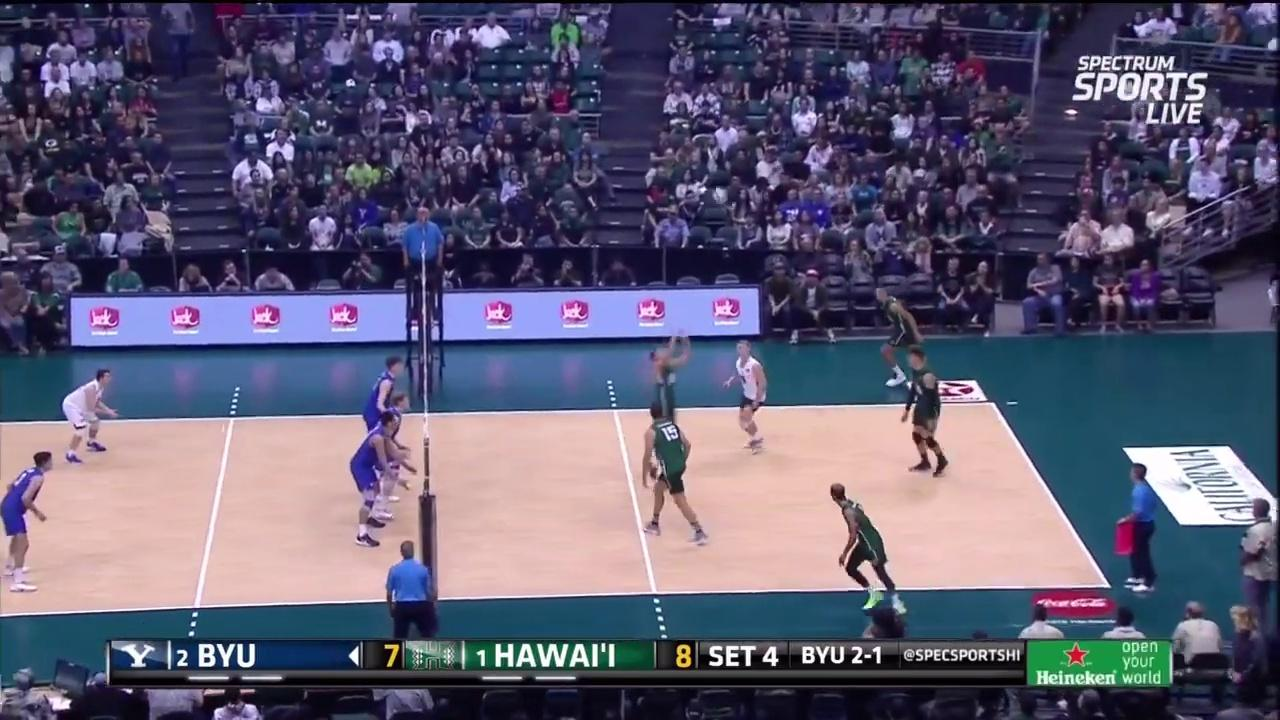player: (644, 404, 714, 546), (831, 487, 900, 614), (640, 325, 693, 481), (344, 414, 404, 549), (2, 454, 57, 590), (898, 347, 954, 471), (363, 354, 409, 485), (371, 392, 415, 521), (61, 369, 121, 462), (873, 288, 927, 389), (724, 343, 767, 450)
refree: (1114, 462, 1162, 594), (385, 539, 439, 641), (399, 206, 446, 310)
